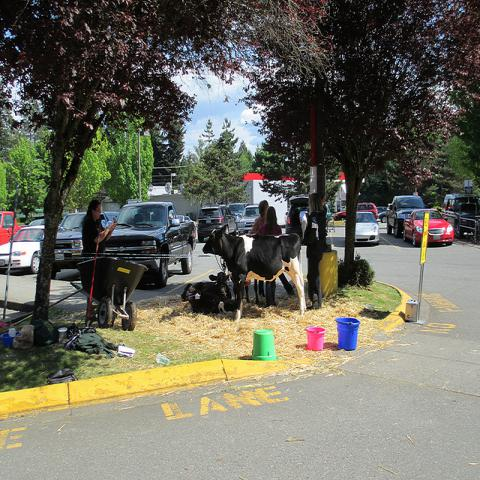car: (44, 192, 480, 279), (0, 226, 46, 276), (403, 209, 454, 246), (198, 205, 236, 236), (0, 211, 26, 247), (355, 212, 381, 247), (333, 204, 379, 221), (237, 203, 261, 235), (227, 201, 250, 224), (222, 204, 238, 236), (28, 217, 44, 224), (378, 211, 387, 223)
truck: (106, 202, 196, 287), (385, 196, 427, 239)
